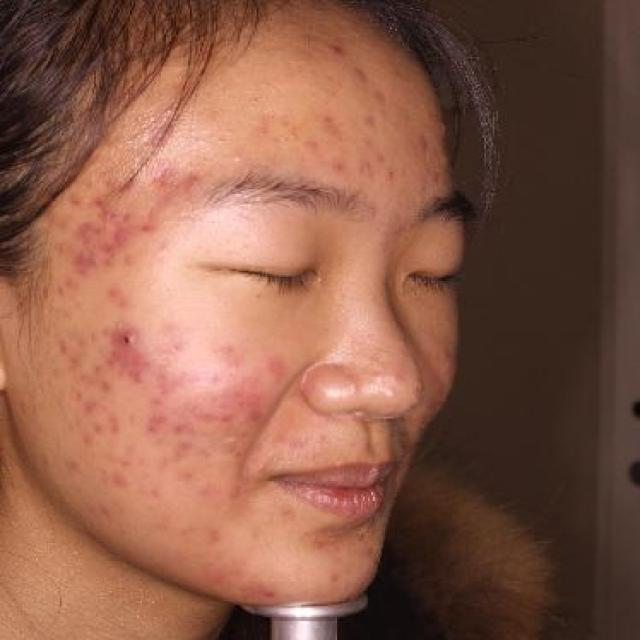blackhead: (112, 323, 141, 354)
darkspot: (151, 360, 195, 402), (303, 113, 354, 142), (137, 405, 173, 446), (262, 352, 296, 394), (339, 60, 382, 92), (240, 575, 284, 603), (313, 40, 358, 66), (353, 106, 387, 134)
